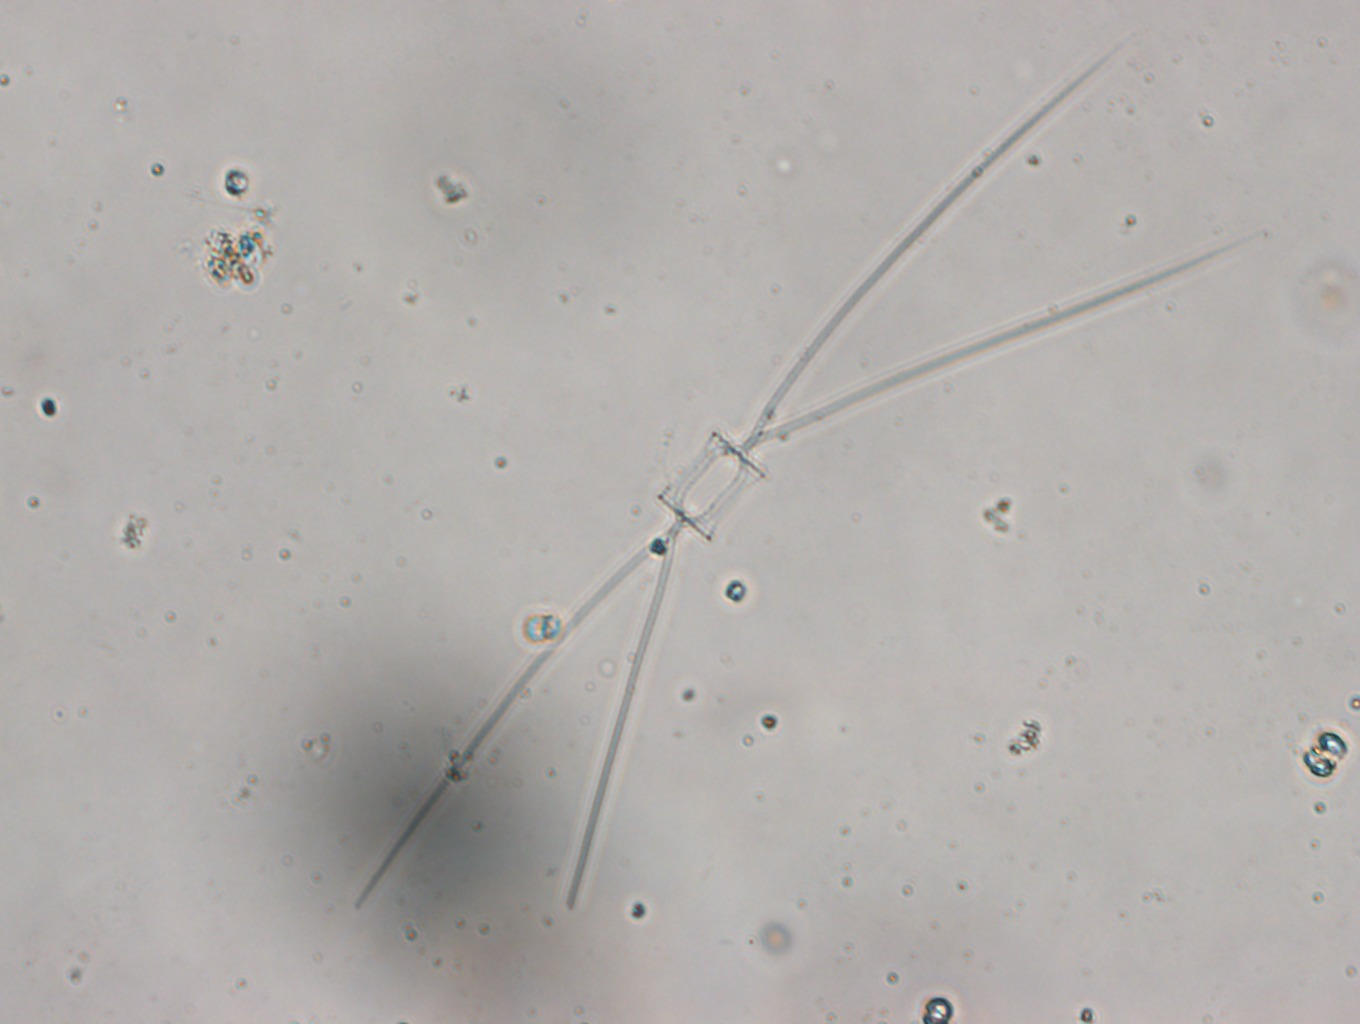chaetoceros: (352, 37, 1266, 913)
